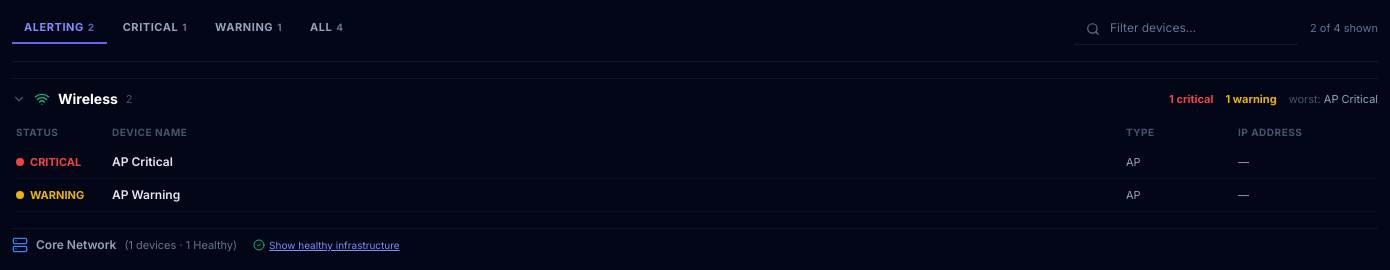
Test: HostMapView › collapses and expands a category group
Click the button "Wireless 2 1 critical 1 warning worst: AP Critical" at (88, 98), box [12, 78, 1378, 119]
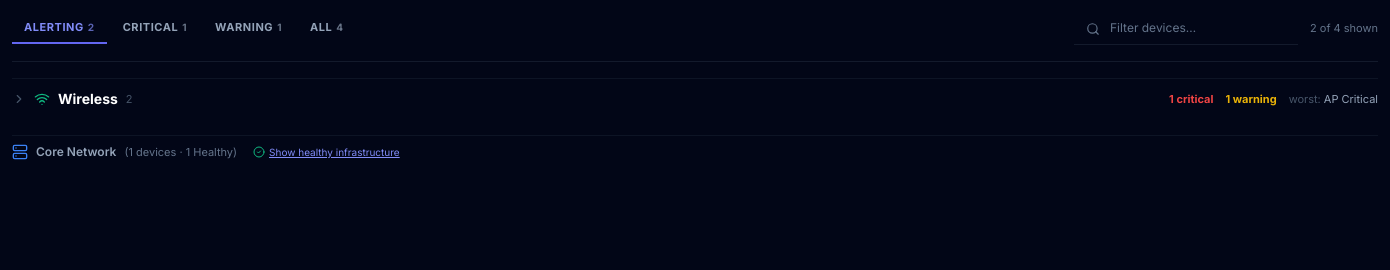
Now the row with test id "hostmap-tile-ap1" is gone
Click the button "Wireless 2 1 critical 1 warning worst: AP Critical" at (88, 98), box [12, 78, 1378, 119]
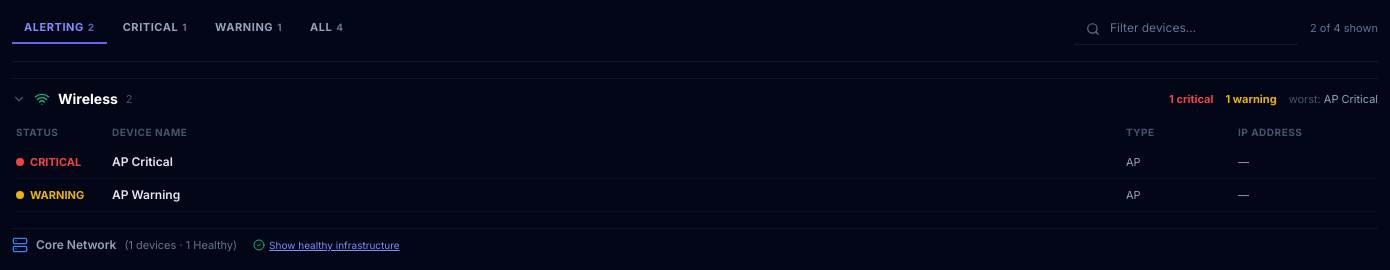
Now the row with test id "hostmap-tile-ap1" is shown, box [12, 146, 1378, 178]
